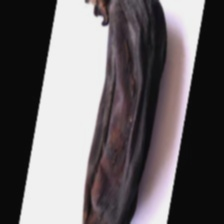banana: (40, 29, 181, 182)
